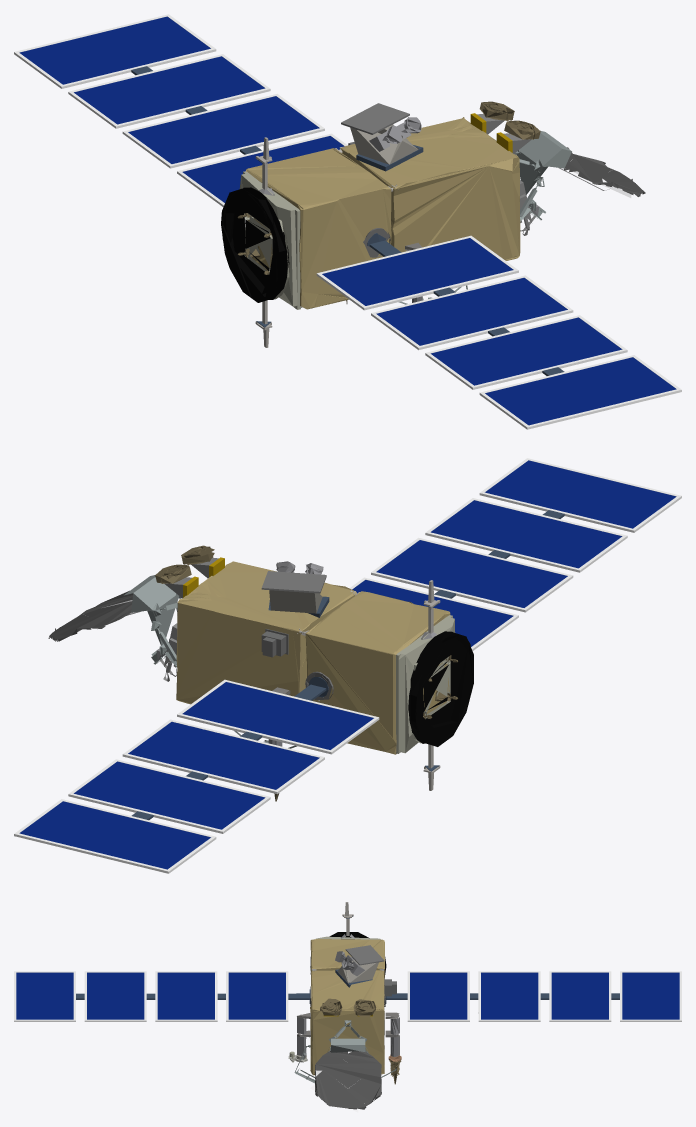
File: satellite.gltf
The picture shows the model from 3 angles, top to bottom: view 1: azimuth 30°, elevation 25°; view 2: azimuth 150°, elevation 25°; view 3: azimuth 270°, elevation 25°; orthographic projection. The views are drawn at different scales.
Visible parts, largest first — view 1: OSTM_Jason2_Layered_016__Layer31_, OSTM_Jason2_Layered_016___unnamed__, OSTM_Jason2_Layered_016__Layer33_, OSTM_Jason2_Layered_016__Layer9_, OSTM_Jason2_Layered_016__Layer8_, OSTM_Jason2_Layered_016__Layer11_, OSTM_Jason2_Layered_016__Layer36_, OSTM_Jason2_Layered_016__Layer34_, OSTM_Jason2_Layered_016__Layer22_, OSTM_Jason2_Layered_016__Layer23_, OSTM_Jason2_Layered_016__Layer25_, OSTM_Jason2_Layered_016__Layer24_ (+1 smaller); view 2: OSTM_Jason2_Layered_016__Layer31_, OSTM_Jason2_Layered_016___unnamed__, OSTM_Jason2_Layered_016__Layer33_, OSTM_Jason2_Layered_016__Layer9_, OSTM_Jason2_Layered_016__Layer8_, OSTM_Jason2_Layered_016__Layer11_, OSTM_Jason2_Layered_016__Layer36_, OSTM_Jason2_Layered_016__Layer34_, OSTM_Jason2_Layered_016__Layer23_, OSTM_Jason2_Layered_016__Layer22_, OSTM_Jason2_Layered_016__Layer25_, OSTM_Jason2_Layered_016__Layer7_ (+1 smaller); view 3: OSTM_Jason2_Layered_016__Layer31_, OSTM_Jason2_Layered_016___unnamed__, OSTM_Jason2_Layered_016__Layer33_, OSTM_Jason2_Layered_016__Layer36_, OSTM_Jason2_Layered_016__Layer11_, OSTM_Jason2_Layered_016__Layer34_, OSTM_Jason2_Layered_016__Layer13_, OSTM_Jason2_Layered_016__Layer25_, OSTM_Jason2_Layered_016__Layer23_, OSTM_Jason2_Layered_016__Layer22_, OSTM_Jason2_Layered_016__Layer24_.
Part boxes in pixels (x1=…): OSTM_Jason2_Layered_016__Layer31_: x1=19, y1=16, x2=676, y2=425; OSTM_Jason2_Layered_016___unnamed__: x1=246, y1=117, x2=520, y2=309; OSTM_Jason2_Layered_016__Layer33_: x1=14, y1=14, x2=681, y2=429; OSTM_Jason2_Layered_016__Layer9_: x1=221, y1=187, x2=289, y2=302; OSTM_Jason2_Layered_016__Layer8_: x1=239, y1=171, x2=300, y2=309; OSTM_Jason2_Layered_016__Layer11_: x1=398, y1=130, x2=571, y2=304; OSTM_Jason2_Layered_016__Layer36_: x1=563, y1=147, x2=645, y2=196; OSTM_Jason2_Layered_016__Layer34_: x1=131, y1=66, x2=564, y2=375; OSTM_Jason2_Layered_016__Layer22_: x1=350, y1=124, x2=418, y2=164; OSTM_Jason2_Layered_016__Layer23_: x1=341, y1=103, x2=409, y2=134; OSTM_Jason2_Layered_016__Layer25_: x1=479, y1=101, x2=540, y2=139; OSTM_Jason2_Layered_016__Layer24_: x1=259, y1=117, x2=421, y2=195; OSTM_Jason2_Layered_016__Layer31_: x1=19, y1=460, x2=676, y2=869; OSTM_Jason2_Layered_016___unnamed__: x1=176, y1=561, x2=450, y2=754; OSTM_Jason2_Layered_016__Layer33_: x1=14, y1=458, x2=681, y2=873; OSTM_Jason2_Layered_016__Layer9_: x1=408, y1=631, x2=473, y2=746; OSTM_Jason2_Layered_016__Layer8_: x1=396, y1=615, x2=455, y2=753; OSTM_Jason2_Layered_016__Layer11_: x1=124, y1=575, x2=296, y2=748; OSTM_Jason2_Layered_016__Layer36_: x1=48, y1=590, x2=133, y2=641; OSTM_Jason2_Layered_016__Layer34_: x1=131, y1=510, x2=564, y2=820; OSTM_Jason2_Layered_016__Layer23_: x1=261, y1=571, x2=326, y2=593; OSTM_Jason2_Layered_016__Layer22_: x1=269, y1=590, x2=322, y2=613; OSTM_Jason2_Layered_016__Layer25_: x1=155, y1=545, x2=214, y2=583; OSTM_Jason2_Layered_016__Layer7_: x1=261, y1=629, x2=288, y2=657; OSTM_Jason2_Layered_016__Layer31_: x1=16, y1=972, x2=679, y2=1019; OSTM_Jason2_Layered_016___unnamed__: x1=310, y1=939, x2=384, y2=1075; OSTM_Jason2_Layered_016__Layer33_: x1=14, y1=971, x2=681, y2=1021; OSTM_Jason2_Layered_016__Layer36_: x1=314, y1=1051, x2=381, y2=1109; OSTM_Jason2_Layered_016__Layer11_: x1=294, y1=1020, x2=396, y2=1083; OSTM_Jason2_Layered_016__Layer34_: x1=76, y1=989, x2=619, y2=1003; OSTM_Jason2_Layered_016__Layer13_: x1=297, y1=1017, x2=399, y2=1056; OSTM_Jason2_Layered_016__Layer25_: x1=320, y1=998, x2=376, y2=1016; OSTM_Jason2_Layered_016__Layer23_: x1=345, y1=945, x2=384, y2=965; OSTM_Jason2_Layered_016__Layer22_: x1=337, y1=960, x2=378, y2=983; OSTM_Jason2_Layered_016__Layer24_: x1=335, y1=934, x2=364, y2=976.
Bounding box in the file's own units: 982 × 537 × 2249.
